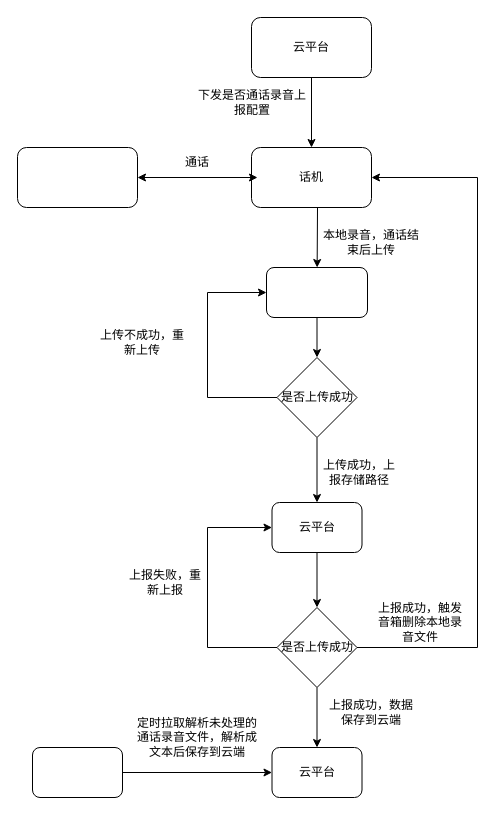
The diagram is 503 pixels wide and 815 high, and some of its shapes have lost their labels. Each missing label, with the box of its shape:
COS云存储服务: (266, 266, 368, 318)
定时服务: (32, 746, 122, 798)
音箱: (16, 146, 138, 208)
